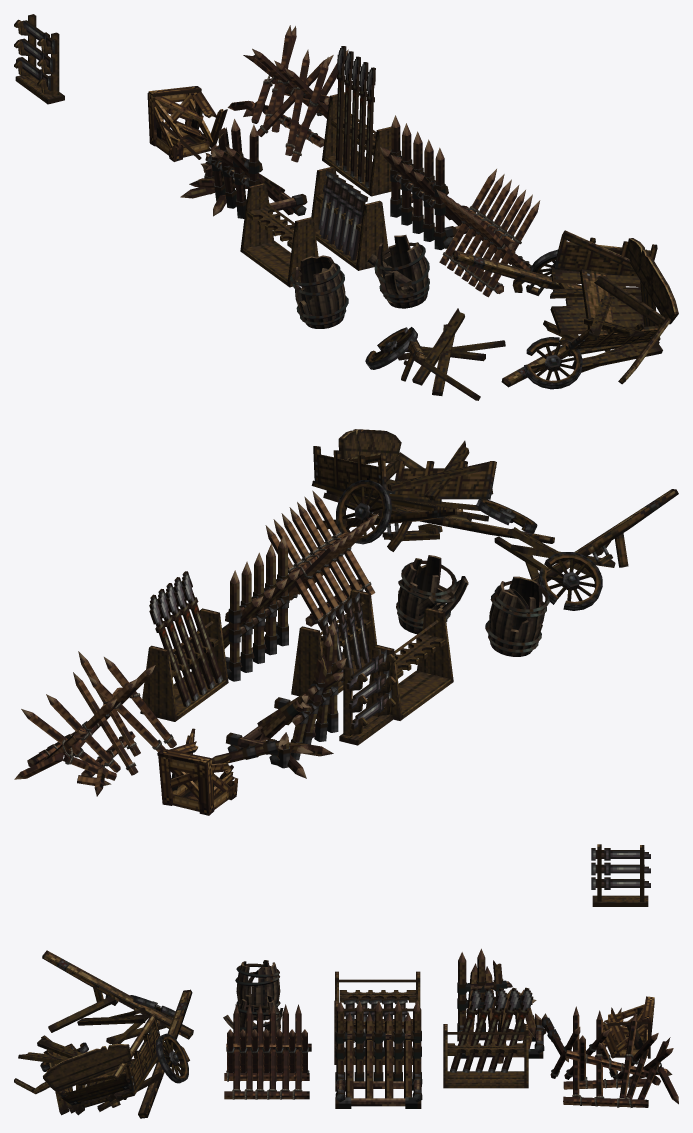
File: EnvObjMD_Batlefield_A_fence_A_Broken.FBX
3 views of the same model, one above another, from view 1: azimuth 30°, elevation 25°; view 2: azimuth 150°, elevation 25°; view 3: azimuth 270°, elevation 25° (orthographic). The views are drawn at different scales.
Parts seen in each view (by area): view 1: EnvObjMD_Batlefield_A_Wagon_A_Broken, EnvObjMD_Batlefield_A_WeaponStand_Spear, EnvObjMD_Batlefield_A_fence_B, EnvObjMD_Batlefield_A_fence_A_Broken, EnvObjMD_Batlefield_A_fence_A, EnvObjMD_Batlefield_A_WeaponStand_Sword_A, EnvObjMD_Batlefield_A_fence_B_Broken, EnvObjMD_Batlefield_A_WeaponStand_StandOnly, EnvObjMD_Batlefield_A_Box_A_Broken, EnvObjMD_Batlefield_A_Wagon_B_Broken, EnvObjMD_Batlefield_A_Barrel_A_Broken_B, EnvObjMD_Batlefield_A_Barrel_A_Broken_A (+1 smaller); view 2: EnvObjMD_Batlefield_A_Wagon_A_Broken, EnvObjMD_Batlefield_A_WeaponStand_Spear, EnvObjMD_Batlefield_A_fence_A_Broken, EnvObjMD_Batlefield_A_fence_B, EnvObjMD_Batlefield_A_fence_B_Broken, EnvObjMD_Batlefield_A_fence_A, EnvObjMD_Batlefield_A_Wagon_B_Broken, EnvObjMD_Batlefield_A_WeaponStand_StandOnly, EnvObjMD_Batlefield_A_WeaponStand_Sword_A, EnvObjMD_Batlefield_A_Box_A_Broken, EnvObjMD_Batlefield_A_Barrel_A_Broken_B, EnvObjMD_Batlefield_A_WeaponStand_Sword_B (+1 smaller); view 3: EnvObjMD_Batlefield_A_Wagon_A_Broken, EnvObjMD_Batlefield_A_fence_A, EnvObjMD_Batlefield_A_fence_B, EnvObjMD_Batlefield_A_WeaponStand_Spear, EnvObjMD_Batlefield_A_fence_A_Broken, EnvObjMD_Batlefield_A_fence_B_Broken, EnvObjMD_Batlefield_A_Wagon_B_Broken, EnvObjMD_Batlefield_A_WeaponStand_Sword_B, EnvObjMD_Batlefield_A_Box_A_Broken, EnvObjMD_Batlefield_A_Barrel_A_Broken_B, EnvObjMD_Batlefield_A_WeaponStand_Sword_A, EnvObjMD_Batlefield_A_WeaponStand_StandOnly (+1 smaller).
Part boxes in pixels (left/top/right/bottom): EnvObjMD_Batlefield_A_Wagon_A_Broken: left=453, top=230, right=678, bottom=389; EnvObjMD_Batlefield_A_WeaponStand_Spear: left=322, top=46, right=401, bottom=196; EnvObjMD_Batlefield_A_fence_B: left=436, top=169, right=542, bottom=297; EnvObjMD_Batlefield_A_fence_A_Broken: left=227, top=25, right=348, bottom=162; EnvObjMD_Batlefield_A_fence_A: left=380, top=115, right=491, bottom=249; EnvObjMD_Batlefield_A_WeaponStand_Sword_A: left=311, top=166, right=388, bottom=270; EnvObjMD_Batlefield_A_fence_B_Broken: left=180, top=119, right=307, bottom=218; EnvObjMD_Batlefield_A_WeaponStand_StandOnly: left=240, top=183, right=318, bottom=287; EnvObjMD_Batlefield_A_Box_A_Broken: left=147, top=86, right=227, bottom=161; EnvObjMD_Batlefield_A_Wagon_B_Broken: left=365, top=308, right=505, bottom=400; EnvObjMD_Batlefield_A_Barrel_A_Broken_B: left=290, top=255, right=348, bottom=328; EnvObjMD_Batlefield_A_Barrel_A_Broken_A: left=367, top=235, right=429, bottom=308; EnvObjMD_Batlefield_A_Wagon_A_Broken: left=311, top=429, right=554, bottom=551; EnvObjMD_Batlefield_A_WeaponStand_Spear: left=140, top=571, right=228, bottom=721; EnvObjMD_Batlefield_A_fence_A_Broken: left=14, top=651, right=176, bottom=796; EnvObjMD_Batlefield_A_fence_B: left=265, top=490, right=378, bottom=630; EnvObjMD_Batlefield_A_fence_B_Broken: left=211, top=621, right=346, bottom=778; EnvObjMD_Batlefield_A_fence_A: left=188, top=535, right=299, bottom=681; EnvObjMD_Batlefield_A_Wagon_B_Broken: left=494, top=489, right=678, bottom=610; EnvObjMD_Batlefield_A_WeaponStand_StandOnly: left=366, top=607, right=453, bottom=720; EnvObjMD_Batlefield_A_WeaponStand_Sword_A: left=291, top=589, right=376, bottom=695; EnvObjMD_Batlefield_A_Box_A_Broken: left=157, top=728, right=237, bottom=815; EnvObjMD_Batlefield_A_Barrel_A_Broken_B: left=485, top=576, right=549, bottom=656; EnvObjMD_Batlefield_A_WeaponStand_Sword_B: left=339, top=648, right=395, bottom=745; EnvObjMD_Batlefield_A_Wagon_A_Broken: left=14, top=989, right=192, bottom=1118; EnvObjMD_Batlefield_A_fence_A: left=335, top=1000, right=422, bottom=1108; EnvObjMD_Batlefield_A_fence_B: left=224, top=1004, right=311, bottom=1099; EnvObjMD_Batlefield_A_WeaponStand_Spear: left=443, top=987, right=533, bottom=1088; EnvObjMD_Batlefield_A_fence_A_Broken: left=550, top=1006, right=678, bottom=1107; EnvObjMD_Batlefield_A_fence_B_Broken: left=457, top=948, right=568, bottom=1063; EnvObjMD_Batlefield_A_Wagon_B_Broken: left=42, top=950, right=193, bottom=1044; EnvObjMD_Batlefield_A_WeaponStand_Sword_B: left=591, top=844, right=650, bottom=906; EnvObjMD_Batlefield_A_Box_A_Broken: left=596, top=996, right=654, bottom=1058; EnvObjMD_Batlefield_A_Barrel_A_Broken_B: left=235, top=960, right=280, bottom=1020; EnvObjMD_Batlefield_A_WeaponStand_Sword_A: left=334, top=997, right=419, bottom=1064; EnvObjMD_Batlefield_A_WeaponStand_StandOnly: left=335, top=971, right=420, bottom=1032.
Bounding box in the file's own units: 813 × 377 × 1559.
Materials: 1 (1 with a texture image).
